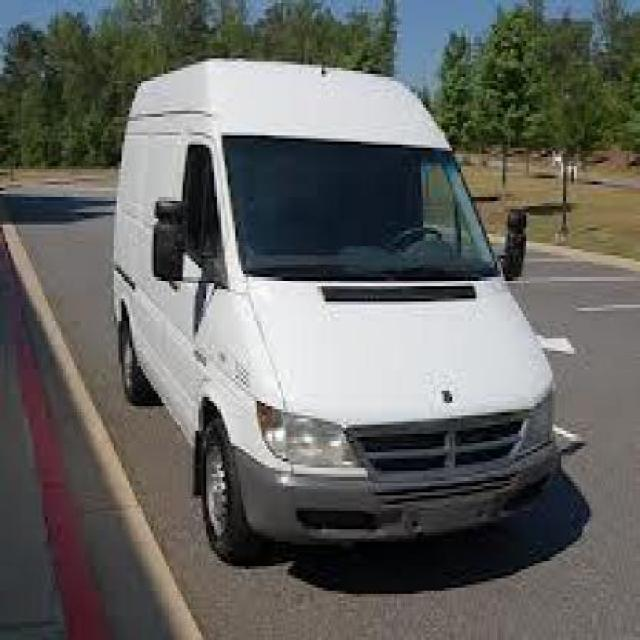truck: (111, 60, 575, 568)
